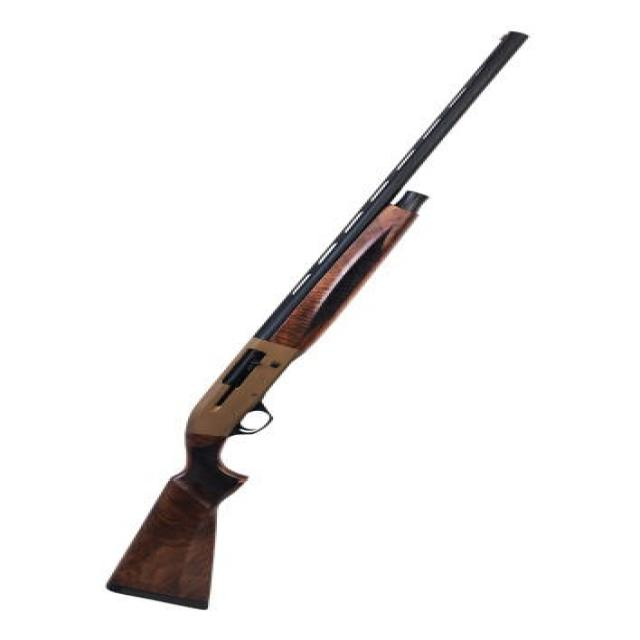rifle: (98, 22, 543, 625)
